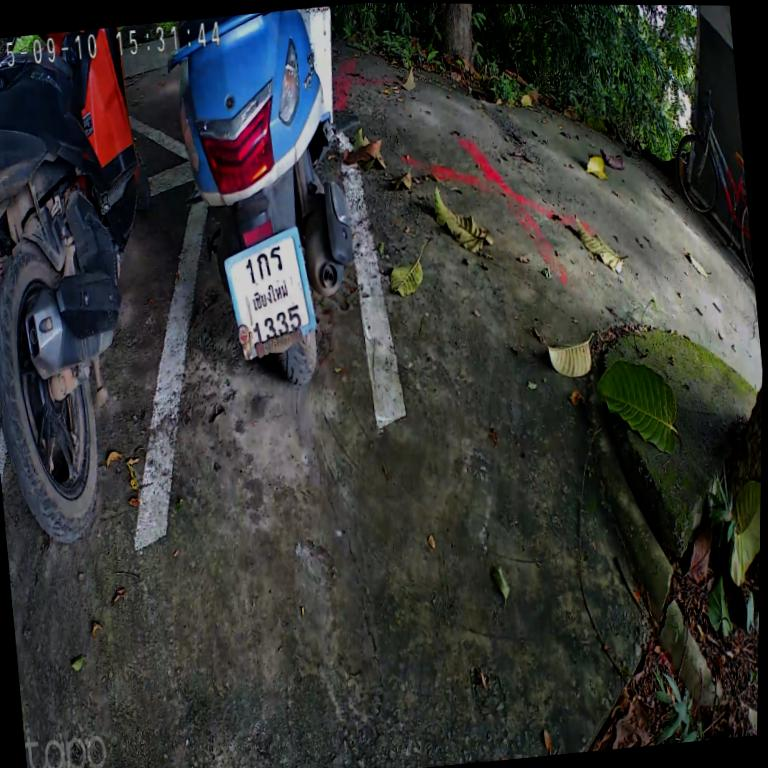license plate: (212, 215, 325, 374)
